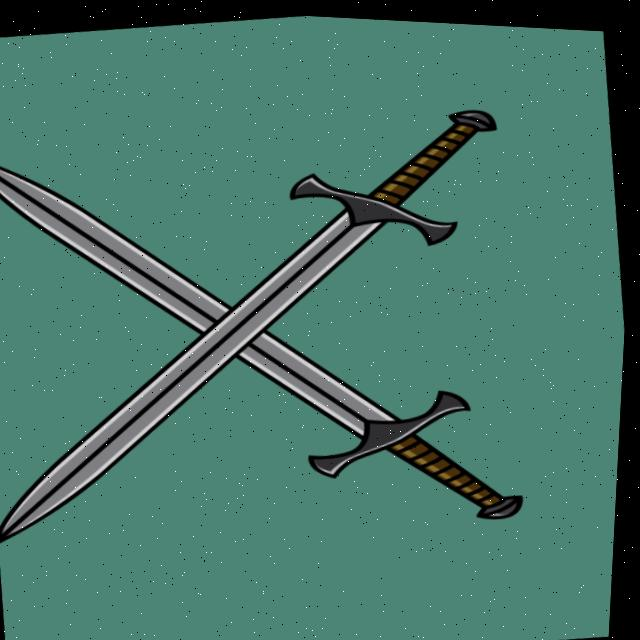knife: (0, 79, 542, 566)
